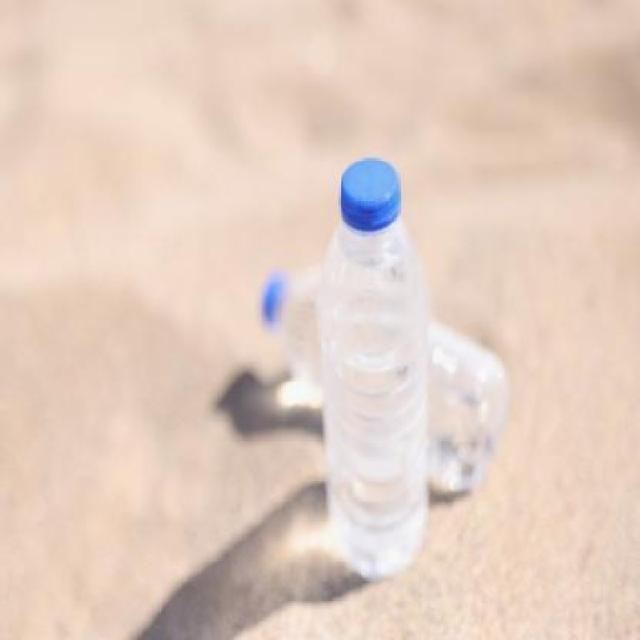bottle: (249, 229, 516, 473), (307, 128, 435, 602)
